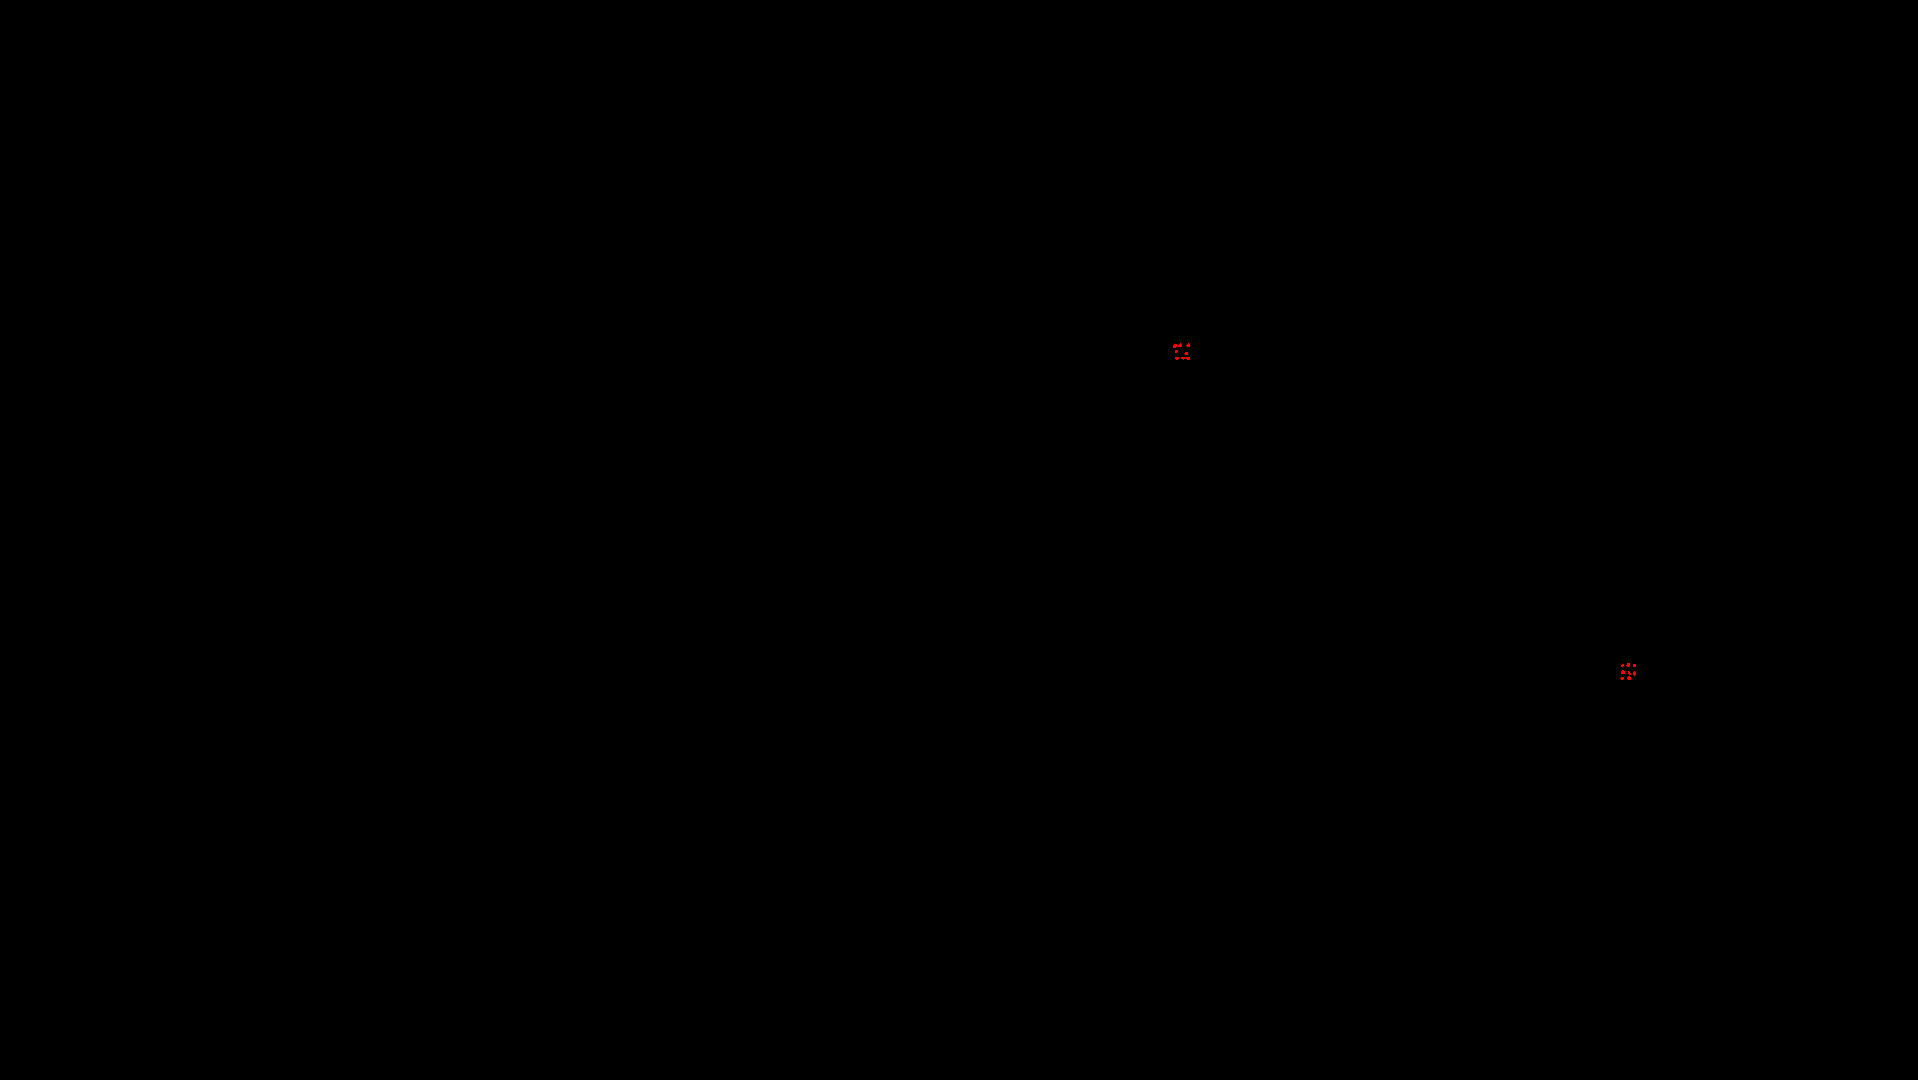Target: (1178, 342, 1182, 346), (1186, 342, 1190, 346), (1172, 344, 1176, 348), (1184, 352, 1188, 356), (1626, 662, 1630, 666), (1622, 670, 1626, 674), (1627, 676, 1631, 680), (1633, 670, 1636, 676), (1175, 357, 1179, 360), (1182, 357, 1186, 360), (1186, 357, 1190, 360), (1628, 670, 1631, 674), (1620, 677, 1624, 680), (1175, 350, 1178, 353), (1622, 664, 1624, 666), (1633, 664, 1636, 666)
